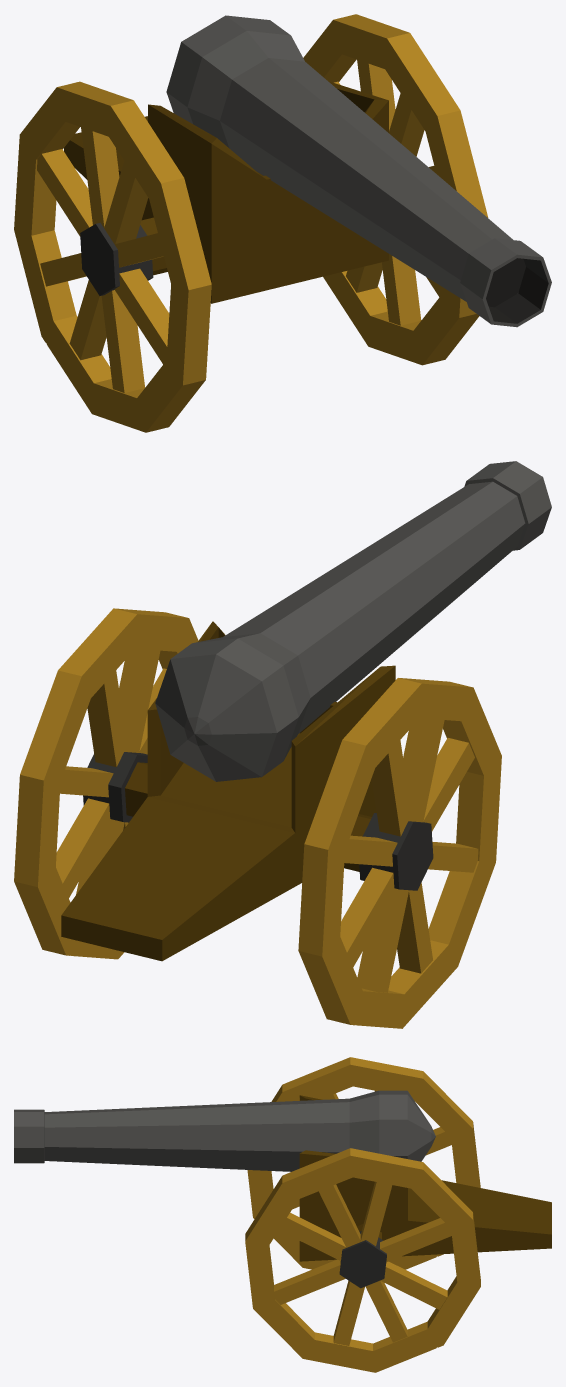
File: Cannon.fbx
3 views of the same model, one above another, from view 1: azimuth 30°, elevation 25°; view 2: azimuth 150°, elevation 25°; view 3: azimuth 270°, elevation 25° (orthographic). The views are drawn at different scales.
Visible parts, largest first — view 1: polySurface51; view 2: polySurface51; view 3: polySurface51.
Boxes of the visible parts, x1,y1,x2,y2 form: polySurface51: (14,14,551,432); polySurface51: (14,461,551,1028); polySurface51: (14,1057,551,1372).
Bounding box in the file's own units: 0.9451 × 1.01 × 2.13.
